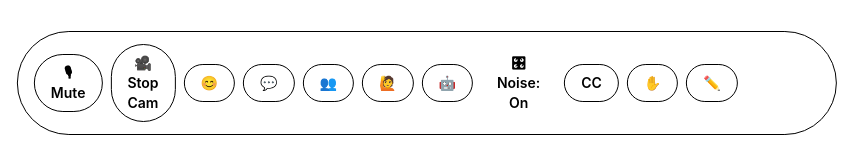
reactions button opens reaction picker
Click the button with test id "btn-reactions": (209, 83) [184,64,235,102]
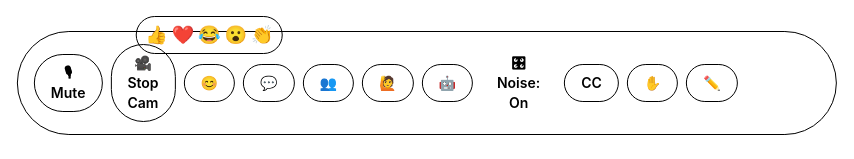
Now the element with test id "reaction-picker" is shown, box [136,16,282,54]
